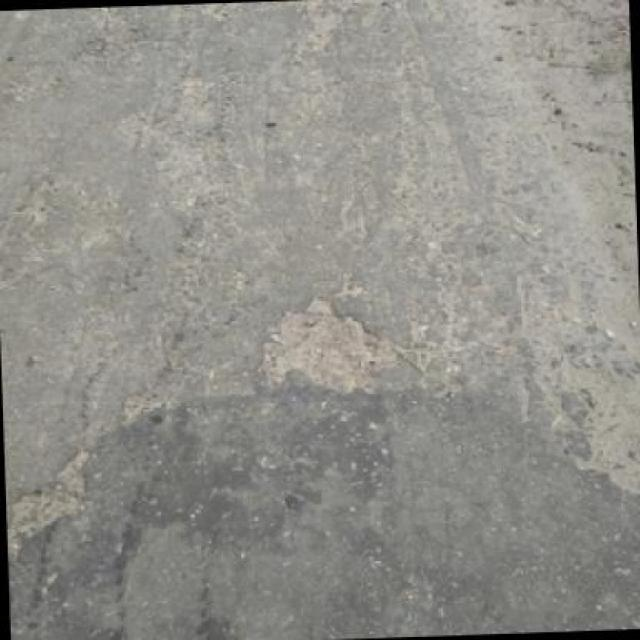pothole1: (253, 288, 384, 395), (7, 488, 81, 534)
